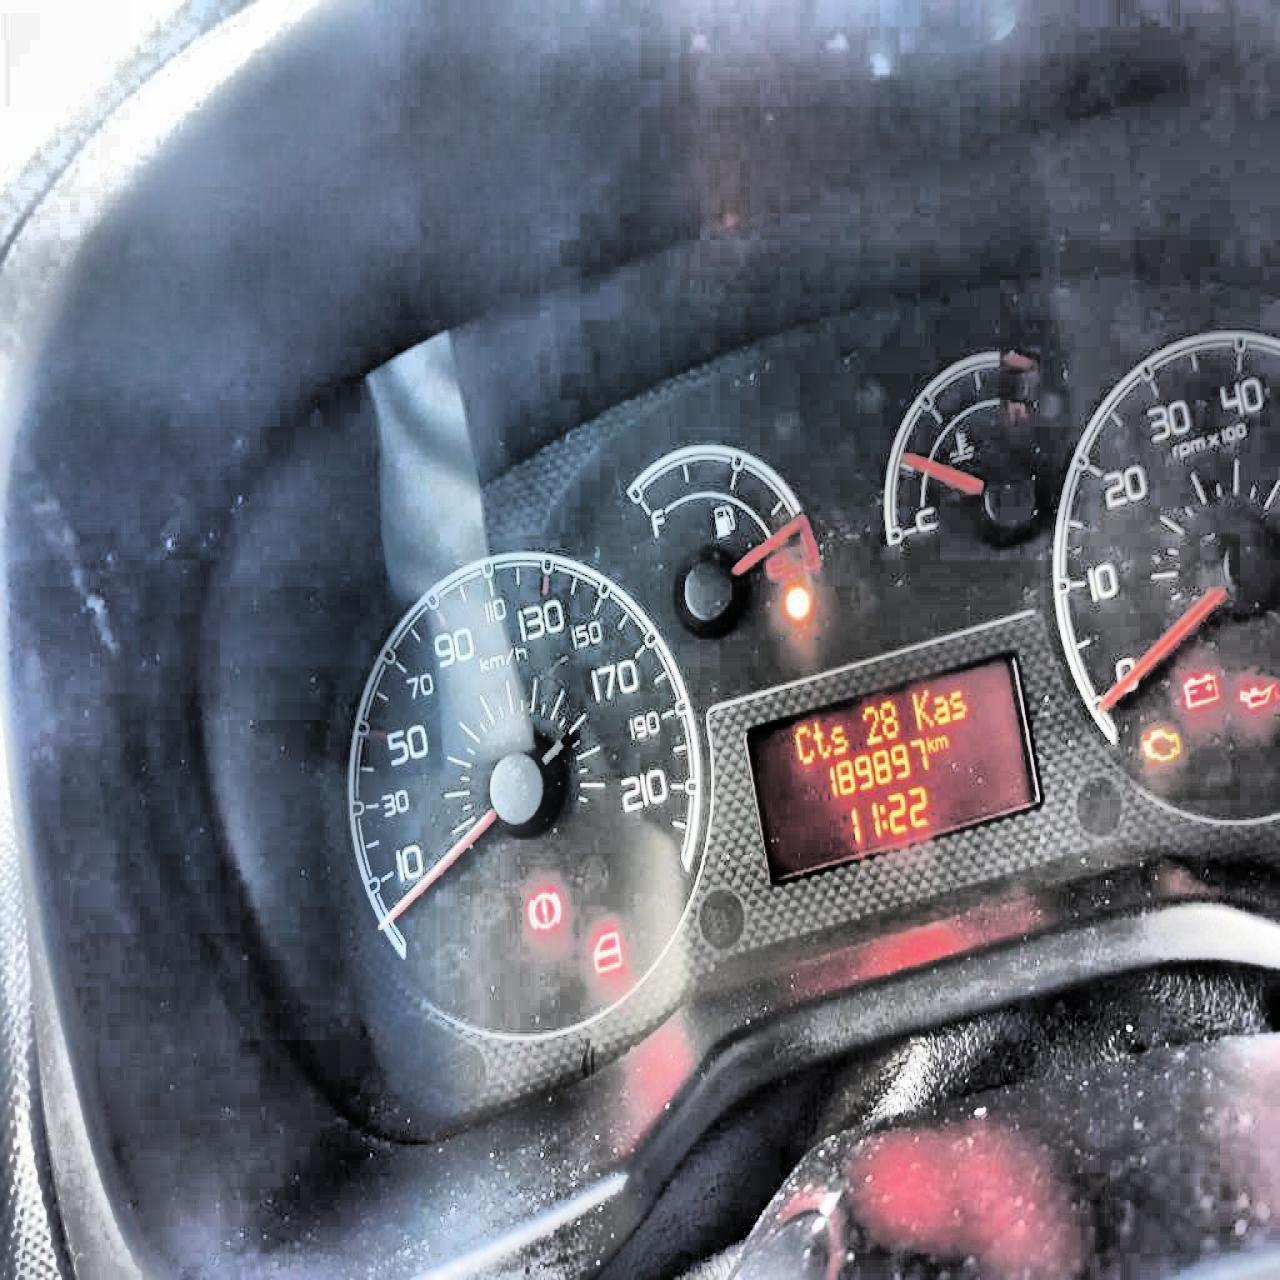1: (849, 805, 860, 843), (870, 801, 881, 837), (829, 763, 837, 797)
2: (862, 703, 883, 744), (906, 785, 927, 826), (886, 790, 906, 833)
7: (908, 737, 927, 770)
8: (879, 699, 899, 740), (835, 758, 855, 795), (870, 749, 891, 783)
9: (852, 751, 872, 790), (888, 742, 908, 781)
X: (910, 687, 932, 730), (794, 723, 813, 763), (811, 720, 831, 758), (946, 688, 966, 719), (829, 723, 847, 755), (931, 694, 948, 723), (878, 803, 887, 830), (933, 734, 947, 750), (924, 735, 934, 751)
odometer: (740, 644, 1042, 887)
